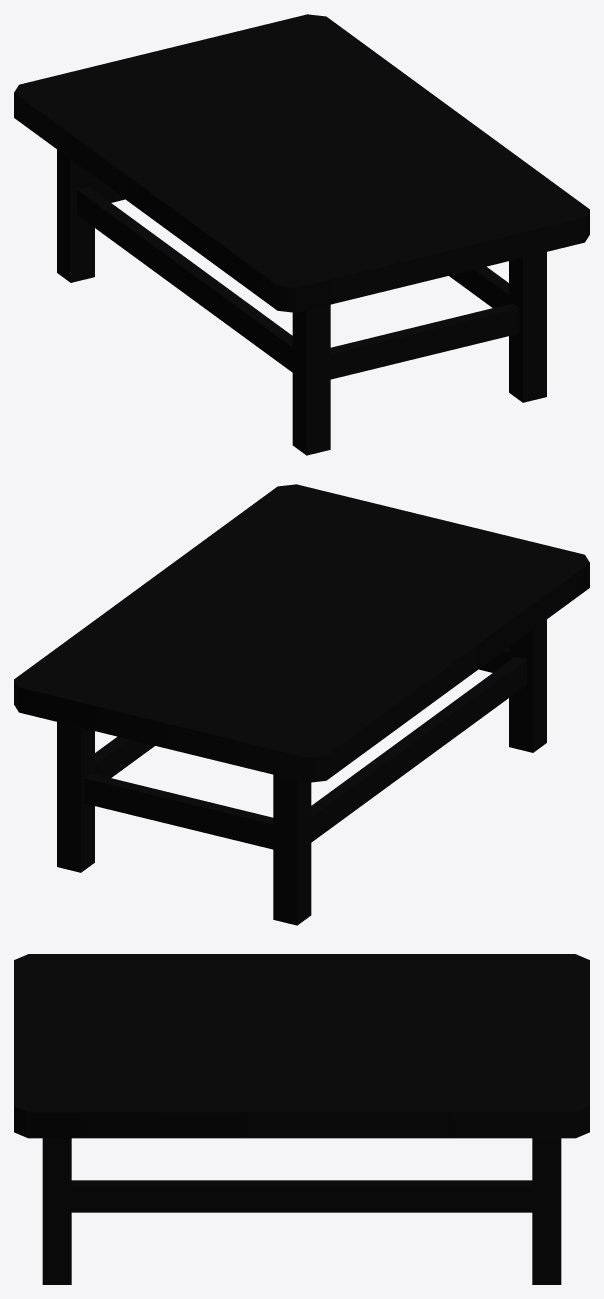
File: stall.glb
3 views of the same model, one above another, from view 1: azimuth 30°, elevation 25°; view 2: azimuth 150°, elevation 25°; view 3: azimuth 270°, elevation 25° (orthographic). The views are drawn at different scales.
Visible parts, largest first — view 1: stall; view 2: stall; view 3: stall.
Boxes of the visible parts, x1,y1,x2,y2 form: stall: (14, 14, 589, 455); stall: (14, 484, 589, 925); stall: (14, 954, 589, 1284).
Size of the model in its own units: 0.65 by 0.3655 by 1.
1 material, 1 textured.
